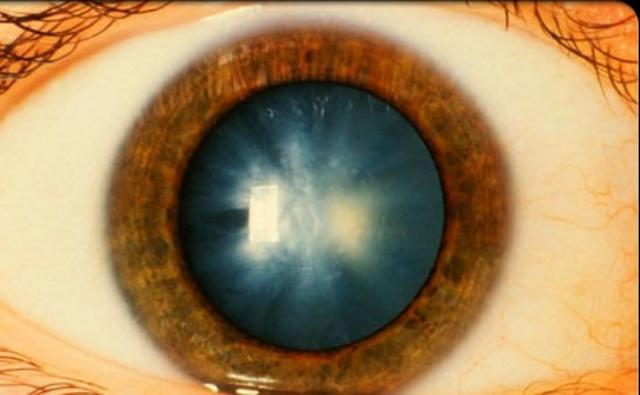eye: (97, 8, 527, 395)
